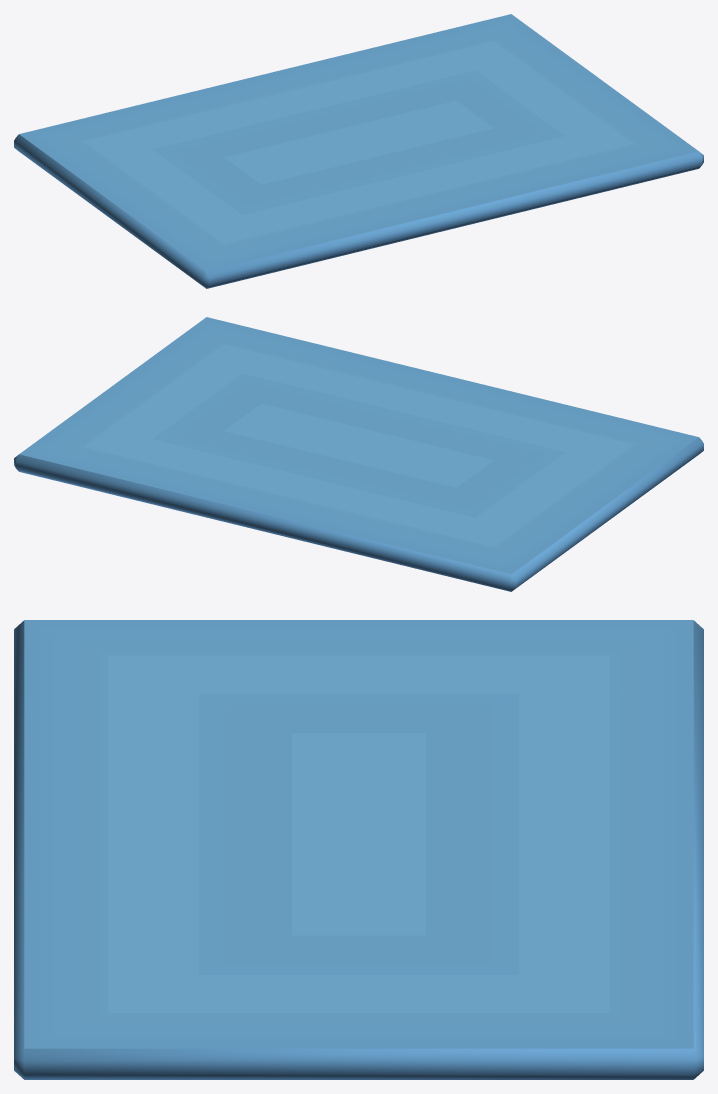
File: rug_rectangle_stripes_b.glb
3 renders of one model, top to bottom at view 1: azimuth 30°, elevation 25°; view 2: azimuth 150°, elevation 25°; view 3: azimuth 270°, elevation 25°, orthographic. The views are drawn at different scales.
Parts seen in each view (by area): view 1: rug_rectangle_stripes_B; view 2: rug_rectangle_stripes_B; view 3: rug_rectangle_stripes_B.
Boxes of the visible parts, x1,y1,x2,y2 form: rug_rectangle_stripes_B: (14, 14, 703, 288); rug_rectangle_stripes_B: (14, 317, 703, 591); rug_rectangle_stripes_B: (14, 620, 703, 1079).
Size of the model in its own units: 2.1 by 0.07 by 1.4.
Materials: 1 (1 with a texture image).
